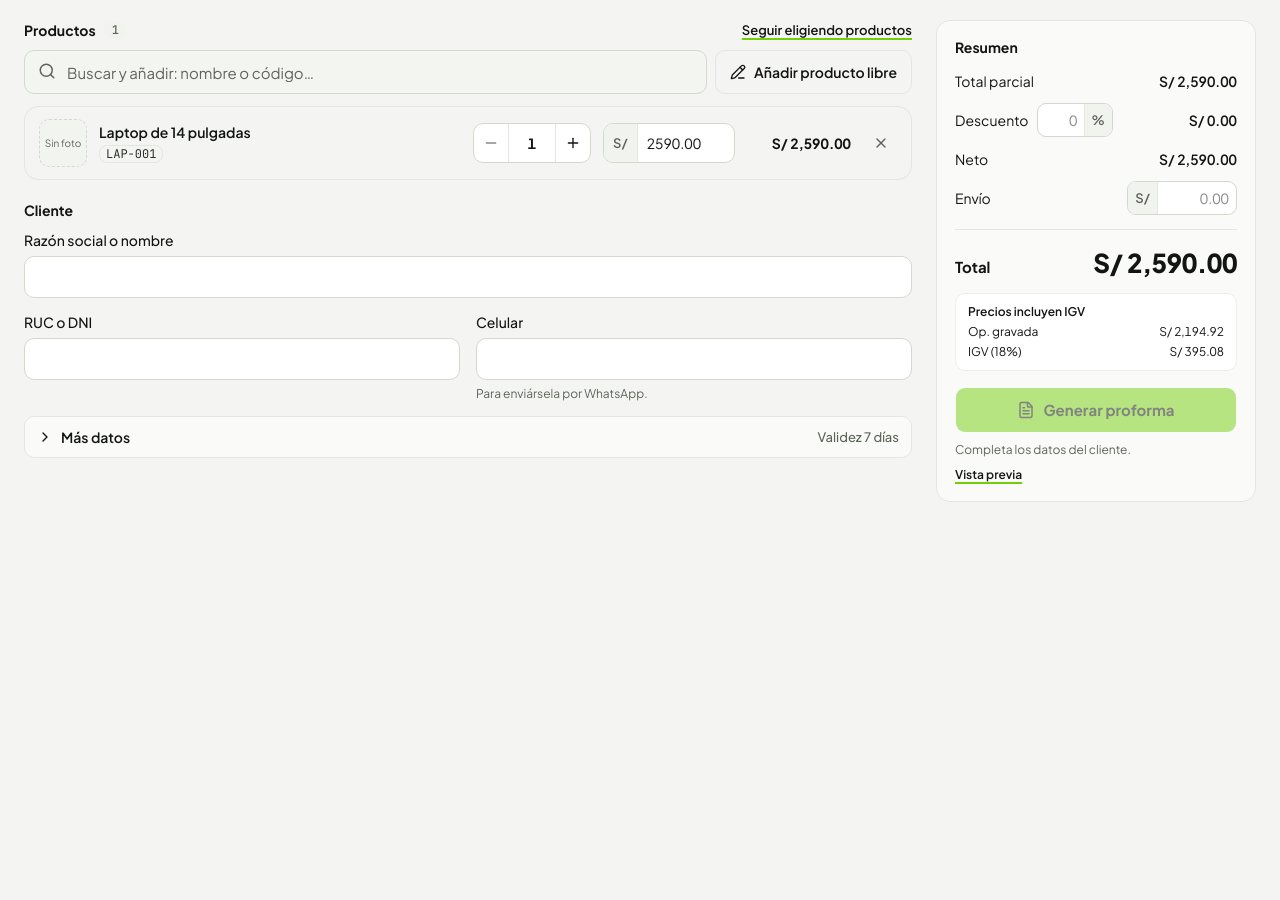
Test: ProformaEditor › con 11 dígitos consulta el RUC una vez y completa razón social y dirección
Type "20000000001" into the field labelled "RUC o DNI" at (242, 359), box [24,338,460,380]
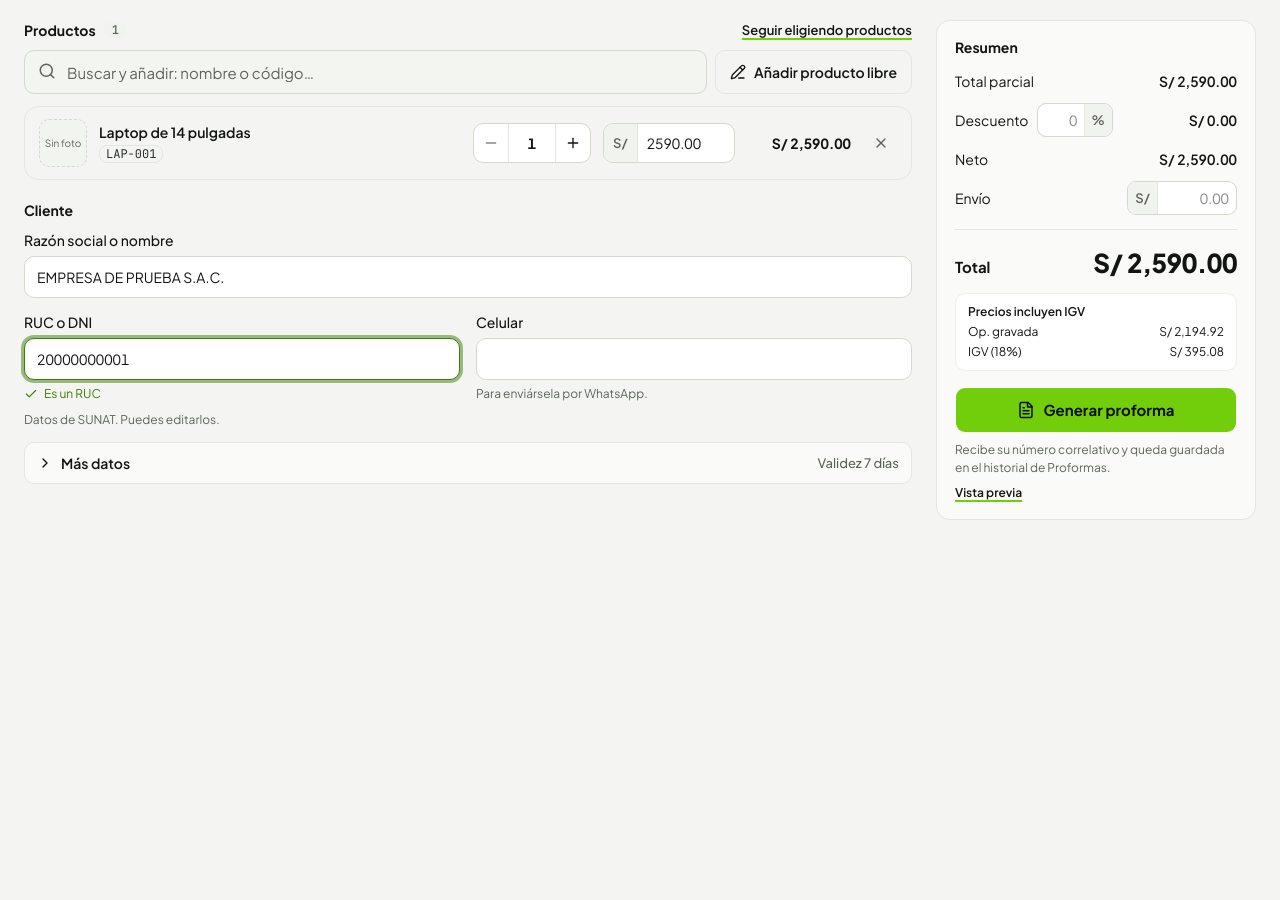
Check: the field showing "EMPRESA DE PRUEBA S.A.C." is shown, box [24,256,912,298]
Click the button "Más datos Validez 7 días" at (96, 463), box [24,442,912,484]
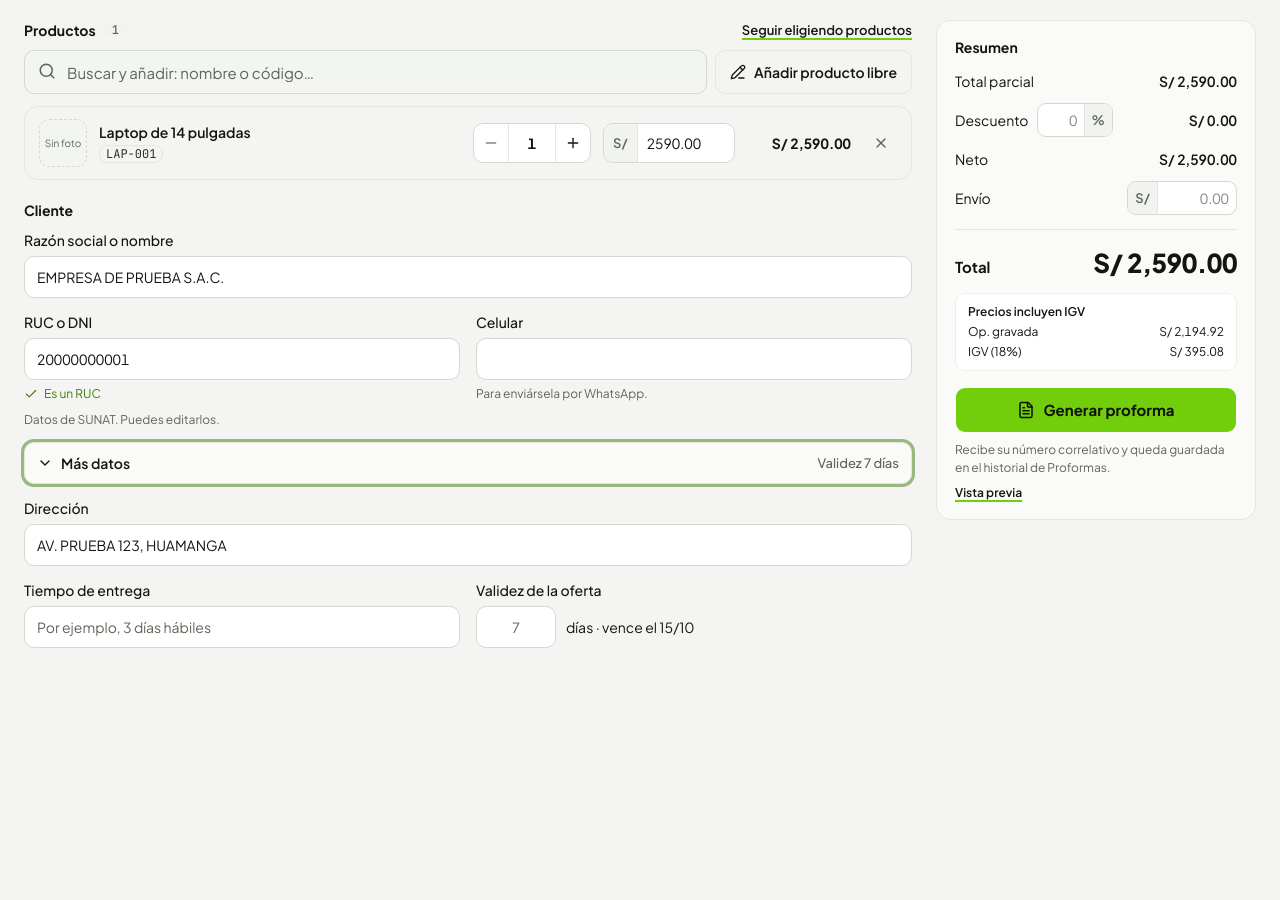
Check: the field labelled "Dirección" holds "AV. PRUEBA 123, HUAMANGA", box [24,524,912,566]
